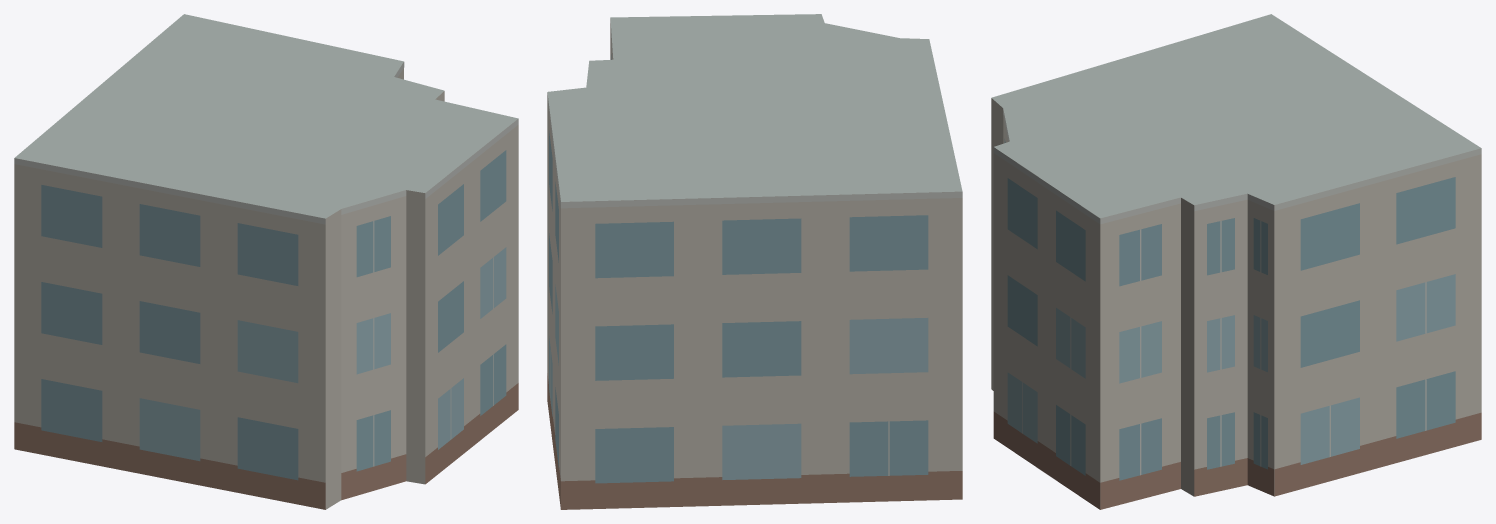
The model's file is survey-upis-32695799.glb.
3 renders of one model, left to right at view 1: azimuth 30°, elevation 25°; view 2: azimuth 150°, elevation 25°; view 3: azimuth 270°, elevation 25°, orthographic. The views are drawn at different scales.
Visible parts, largest first — view 1: survey-upis-32695799.tmp; view 2: survey-upis-32695799.tmp; view 3: survey-upis-32695799.tmp.
Part boxes in pixels (x1,y1,x2,y2): survey-upis-32695799.tmp: [14, 14, 518, 509]; survey-upis-32695799.tmp: [547, 14, 962, 509]; survey-upis-32695799.tmp: [991, 14, 1481, 509].
Size of the model in its own units: 17.91 by 11.9 by 18.16.
